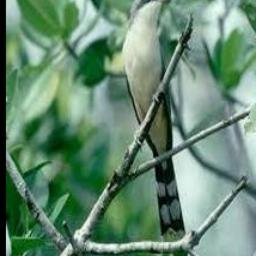Cuckoo: (123, 0, 187, 244)
